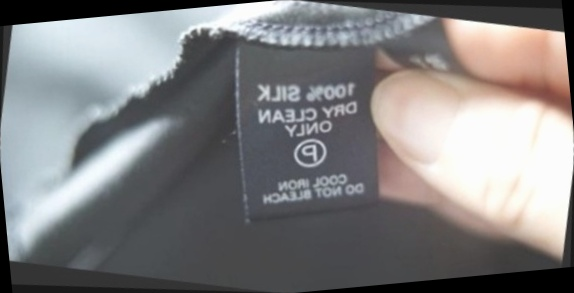dry_clean_any_solvent_except_trichloroethylene: (285, 129, 334, 176)
